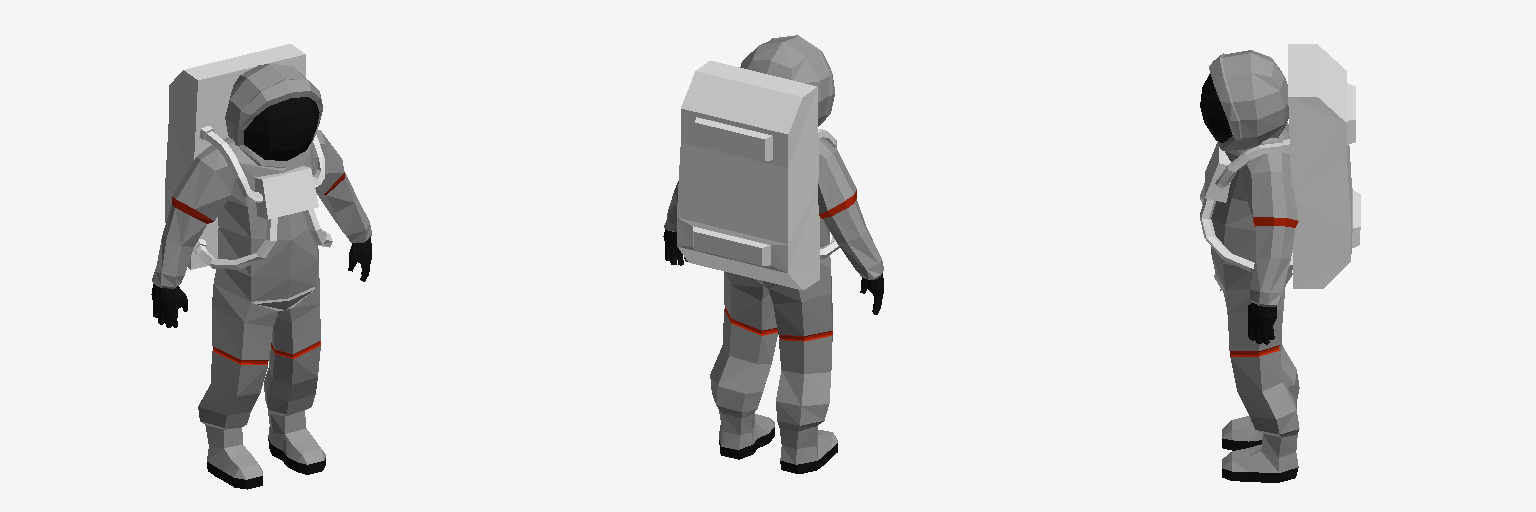
The model's file is Astronaut-new.obj.
3 renders of one model, left to right at view 1: azimuth 30°, elevation 25°; view 2: azimuth 150°, elevation 25°; view 3: azimuth 270°, elevation 25°, orthographic.
Visible parts, largest first — view 1: Astronaut_mesh; view 2: Astronaut_mesh; view 3: Astronaut_mesh.
Boxes of the visible parts, <box> form: Astronaut_mesh: <box>151,44,371,489</box>; Astronaut_mesh: <box>663,35,883,473</box>; Astronaut_mesh: <box>1200,44,1360,482</box>.
Bounding box in the file's own units: 2.24 × 4.02 × 1.45.